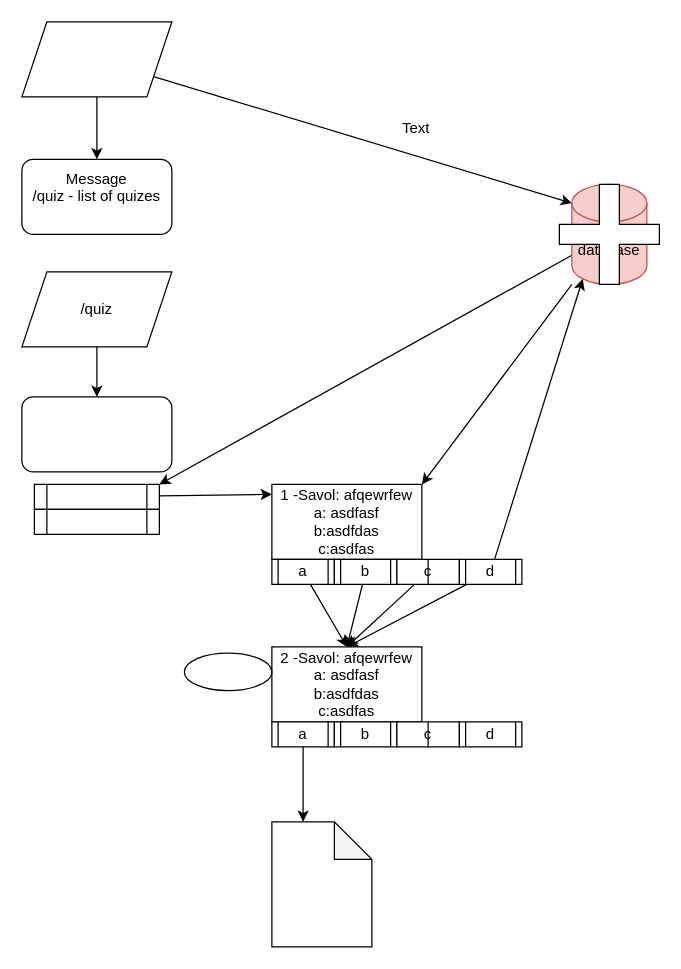
The diagram is 681 pixels wide and 969 high, and some of its shapes have lost their labels. Each missing label, with the centre of its shape:
"/start" goes at point 96,59.
"1-variant" goes at point 96,496.
"2-variant" goes at point 96,521.
"check" goes at point 227,671.
"Result" goes at point 321,884.
"Tanlash quizni" goes at point 96,434.
